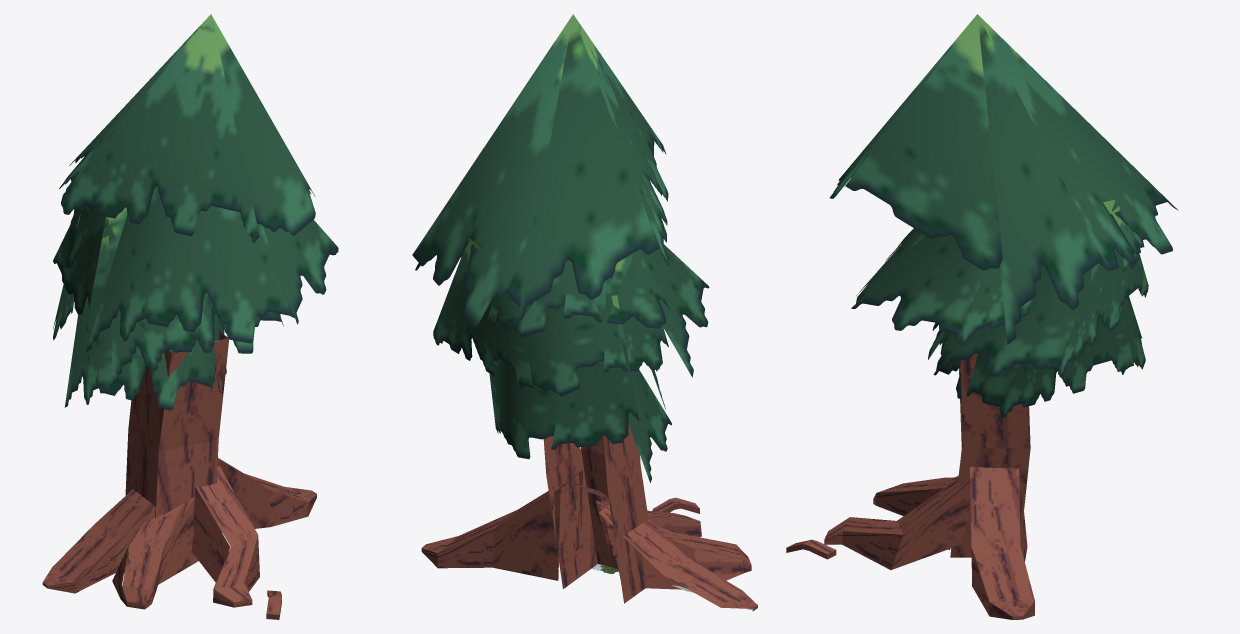
File: Arvore2.fbx
3 renders of one model, left to right at view 1: azimuth 30°, elevation 25°; view 2: azimuth 150°, elevation 25°; view 3: azimuth 270°, elevation 25°, orthographic. The views are drawn at different scales.
Parts seen in each view (by area): view 1: Copa2, Arvore2; view 2: Copa2, Arvore2; view 3: Copa2, Arvore2.
Part boxes in pixels (box(x1,y1,x2,y2)): Copa2: box(53, 14, 338, 410); Arvore2: box(42, 331, 316, 619); Copa2: box(412, 14, 709, 482); Arvore2: box(421, 423, 757, 611); Copa2: box(830, 14, 1178, 417); Arvore2: box(786, 353, 1034, 619).
Size of the model in its own units: 924 by 1085 by 1506.
